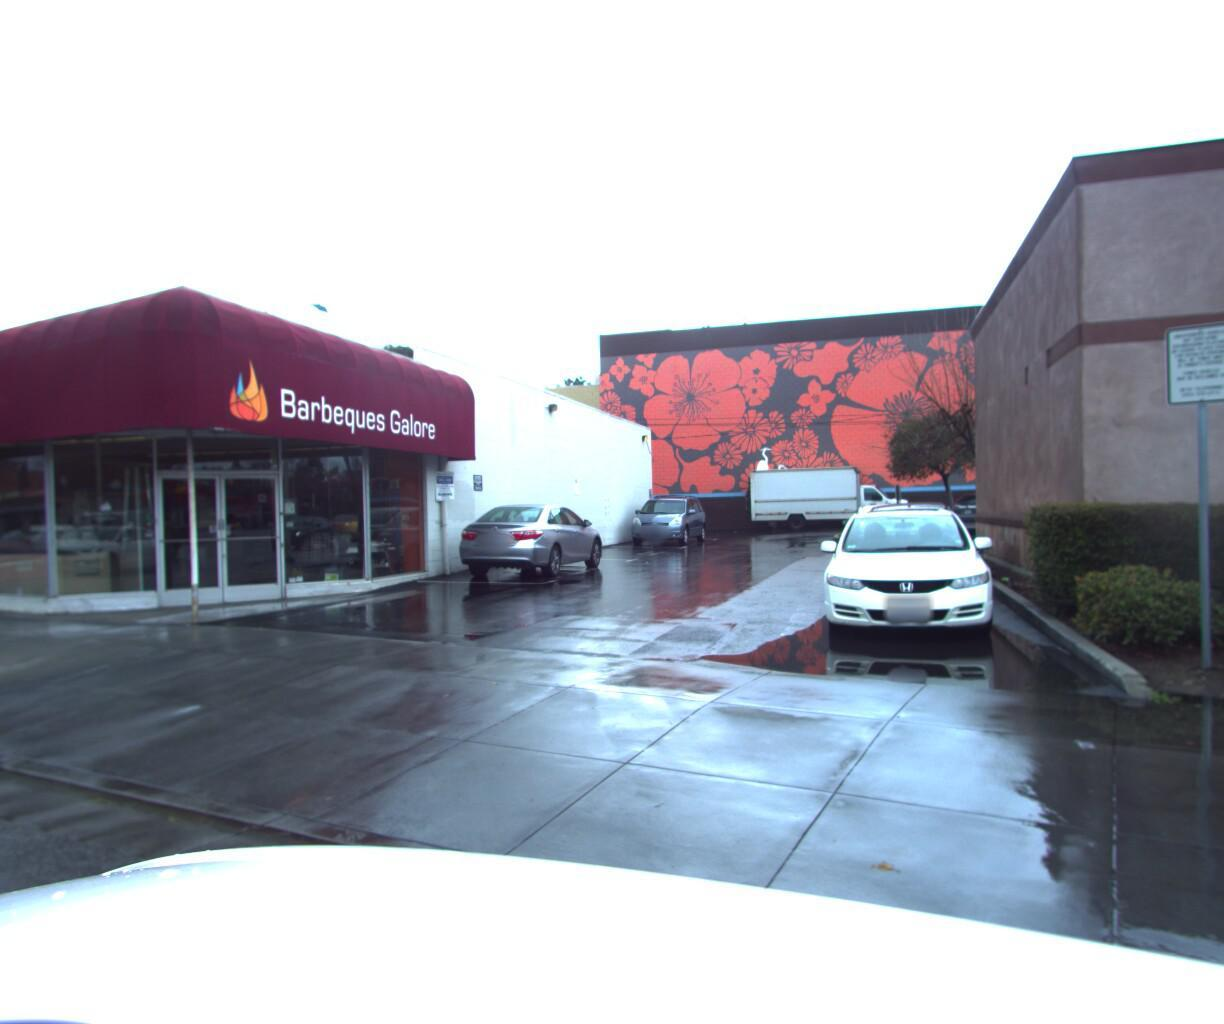car: (810, 498, 1001, 646), (447, 504, 609, 597)
